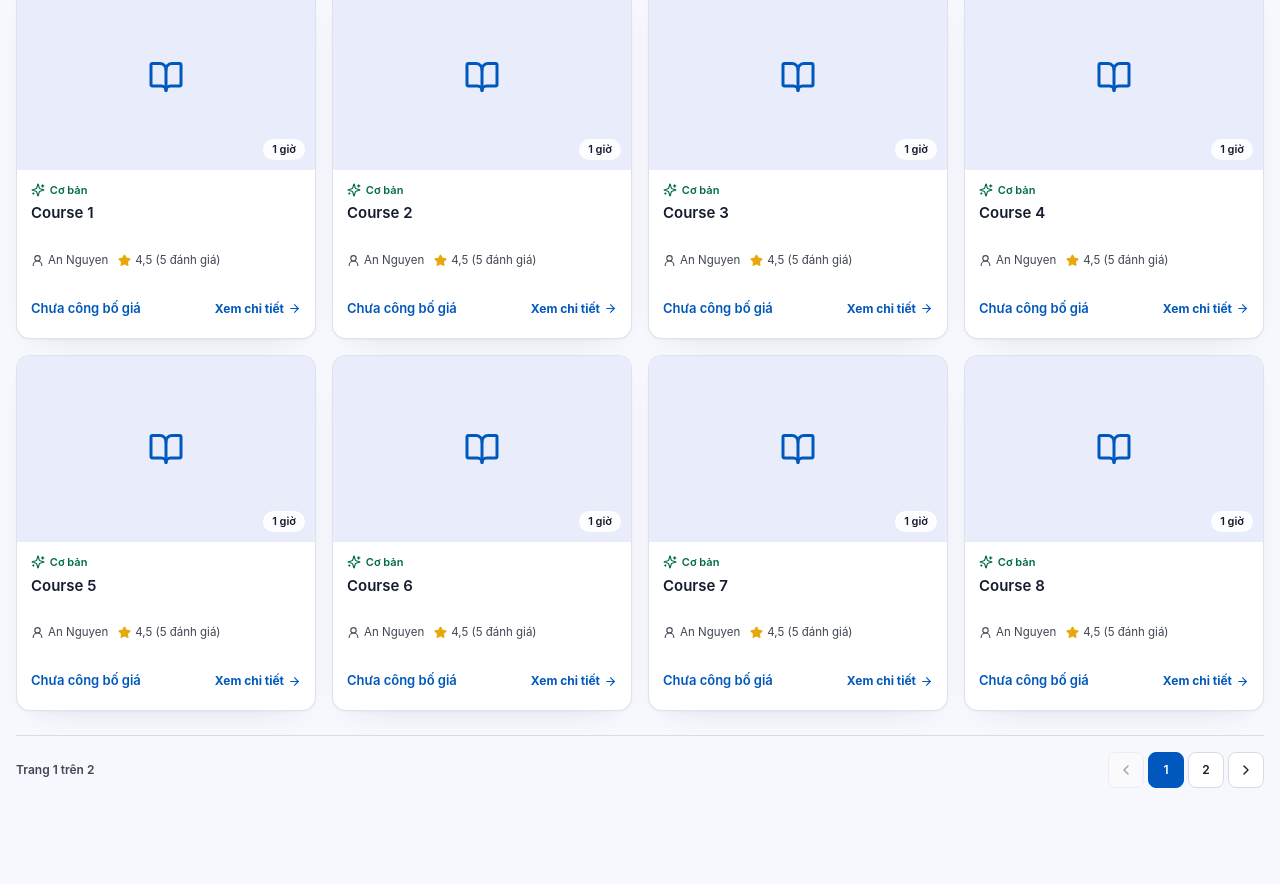
Scenario: CoursesPage API states › paginates a long catalog instead of rendering every course at once
(page scrolled)
Expected: the heading "Course 1" is shown, x1=31 y1=203 x2=94 y2=222
Expected: the text "Trang 1 trên 2" is shown, x1=16 y1=761 x2=94 y2=779
Click the button "2".
click(1206, 770)  # box x1=1188 y1=752 x2=1224 y2=788
(page scrolled)
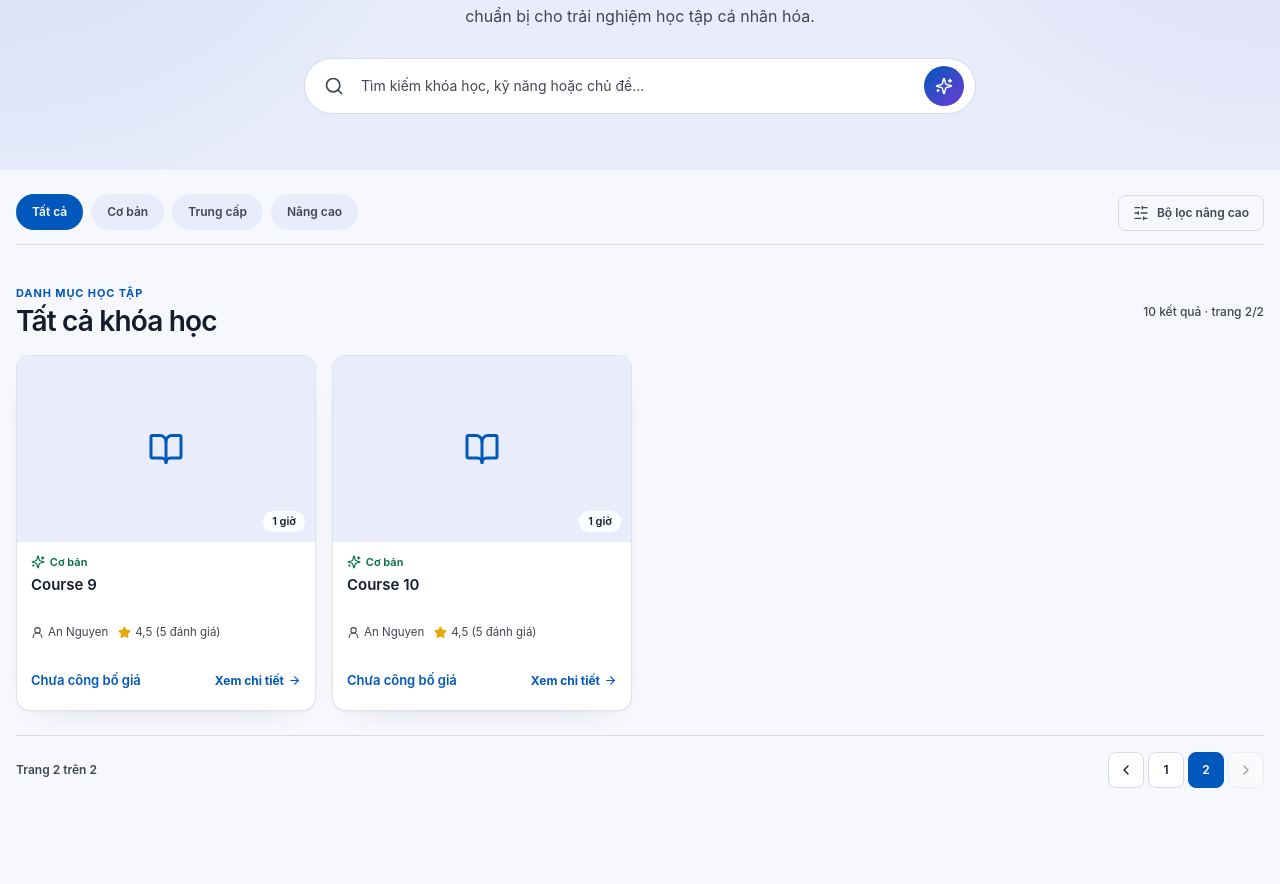
Expected: the heading "Course 10" is shown, x1=347 y1=575 x2=420 y2=594
